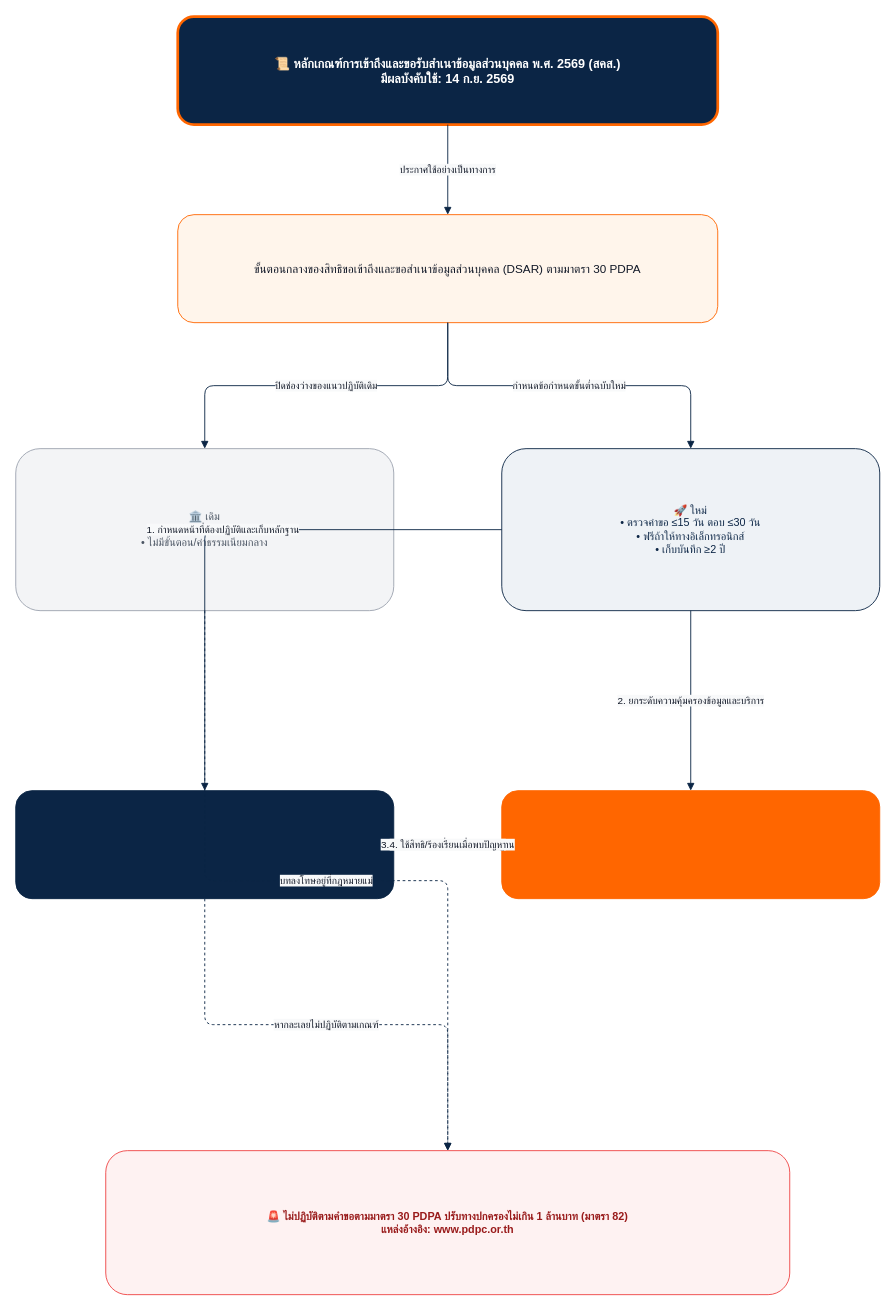
This 896x1310 diagram has some shape labels left out. The centre of each missing label's shape, as x and y in pixels:
"🏢 ผู้ควบคุมข้อมูลส่วนบุคคล / บริษัทไอที" belongs at point (204, 844).
"👤 เจ้าของข้อมูลส่วนบุคคล / ประชาชน" belongs at point (690, 844).
